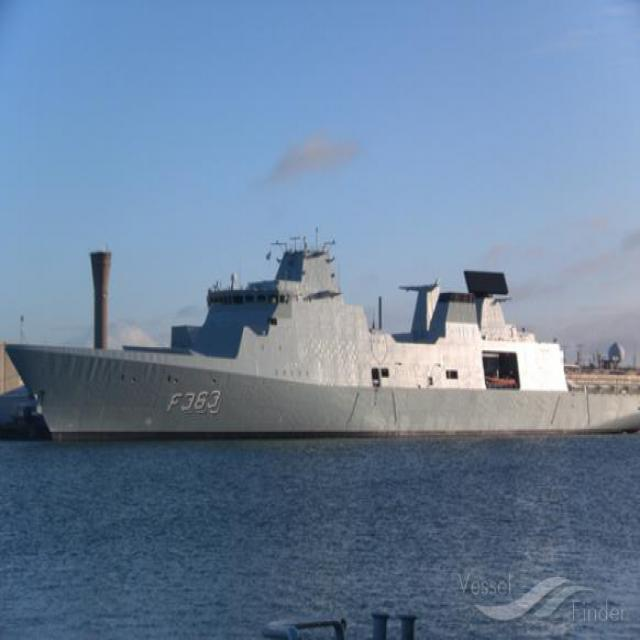OCR: (163, 388, 224, 417)
